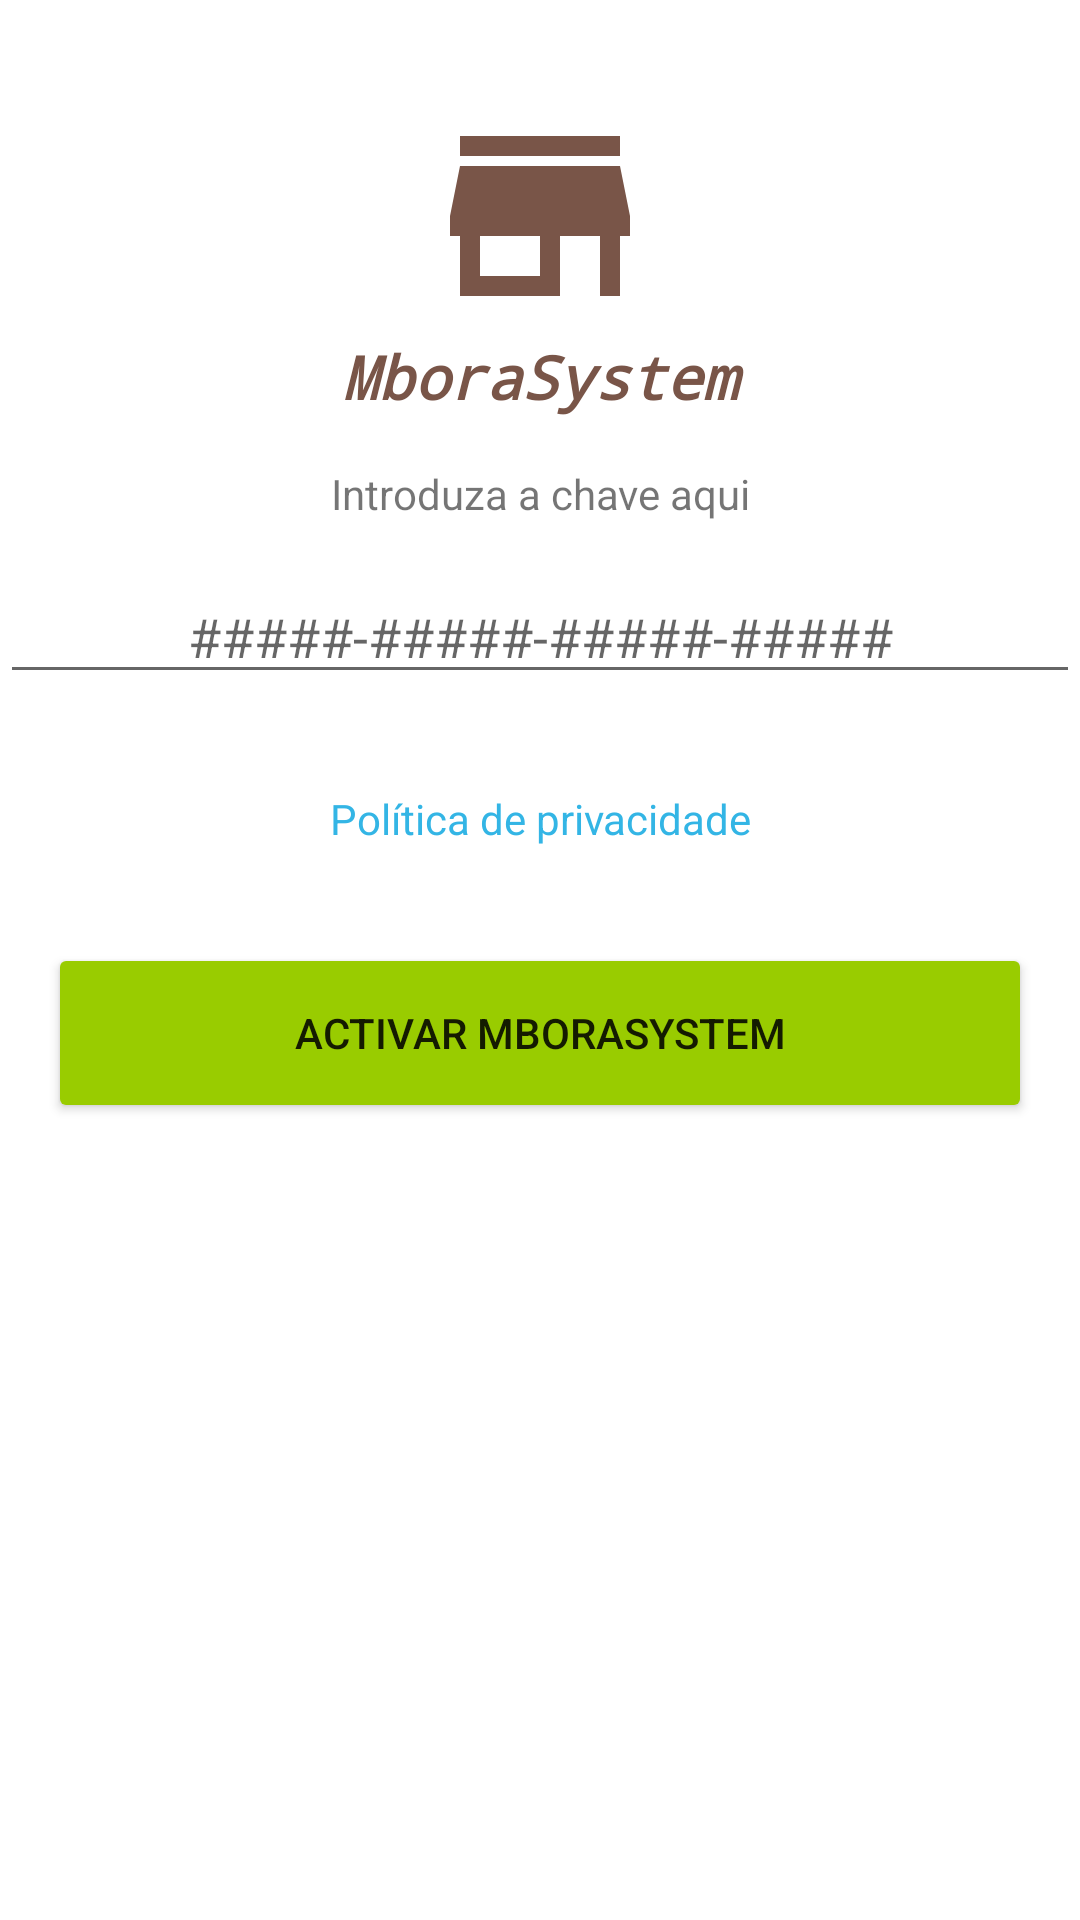

Locate icon controls on the screen. Image size 1080px×1920px, boxes as BBox(x1, y1, x2, y2).
store: BBox(450, 136, 630, 296)
